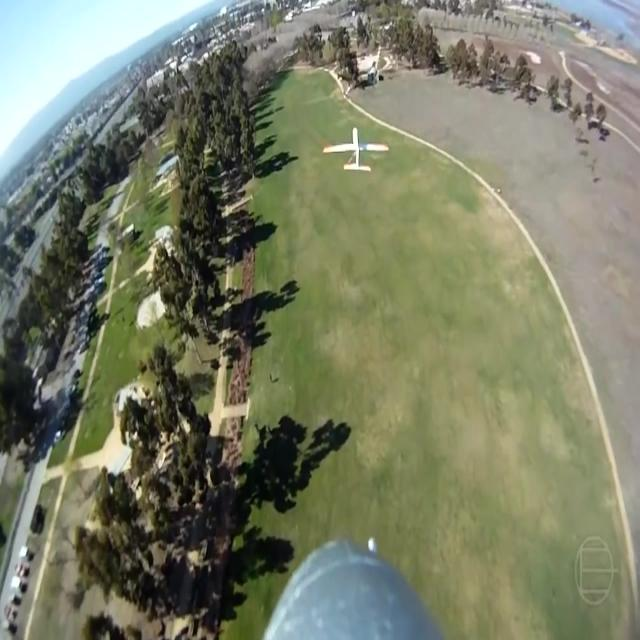iha: (354, 127, 358, 172)
